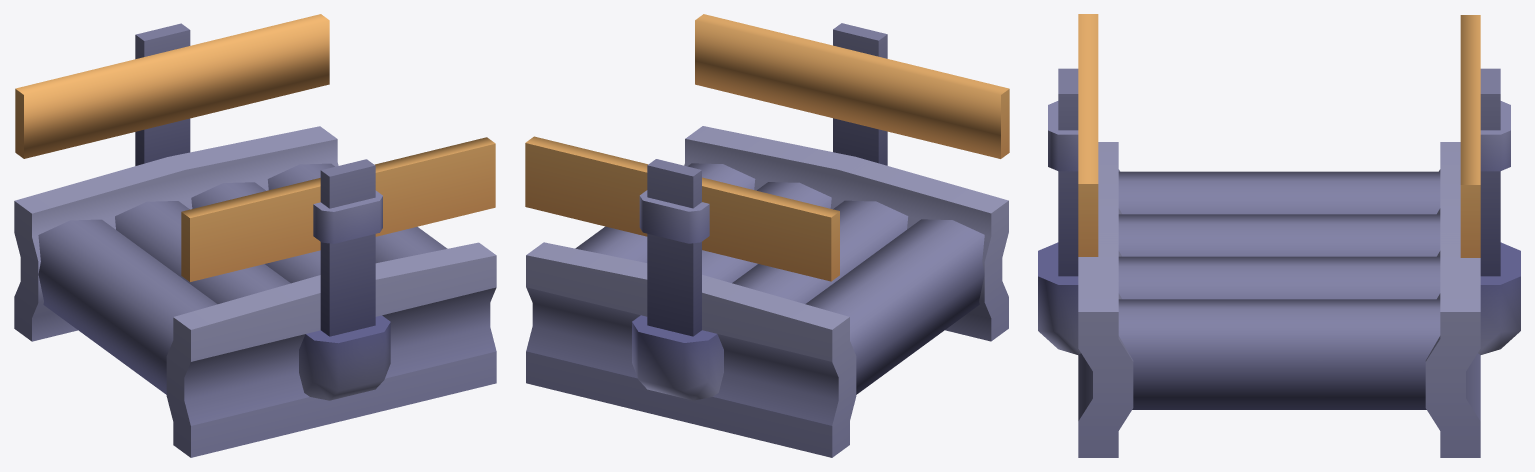
File: kenney-factory-conveyor-bars-fence.glb
3 views of the same model, side by side, from view 1: azimuth 30°, elevation 25°; view 2: azimuth 150°, elevation 25°; view 3: azimuth 270°, elevation 25° (orthographic). The views are drawn at different scales.
Parts seen in each view (by area): view 1: conveyor-bars-fence; view 2: conveyor-bars-fence; view 3: conveyor-bars-fence.
Boxes of the visible parts, <box> form: conveyor-bars-fence: <box>14,14,496,457</box>; conveyor-bars-fence: <box>525,14,1009,457</box>; conveyor-bars-fence: <box>1038,14,1520,457</box>.
Size of the model in its own units: 1.51 by 1.2 by 1.8.
1 material, 1 textured.
